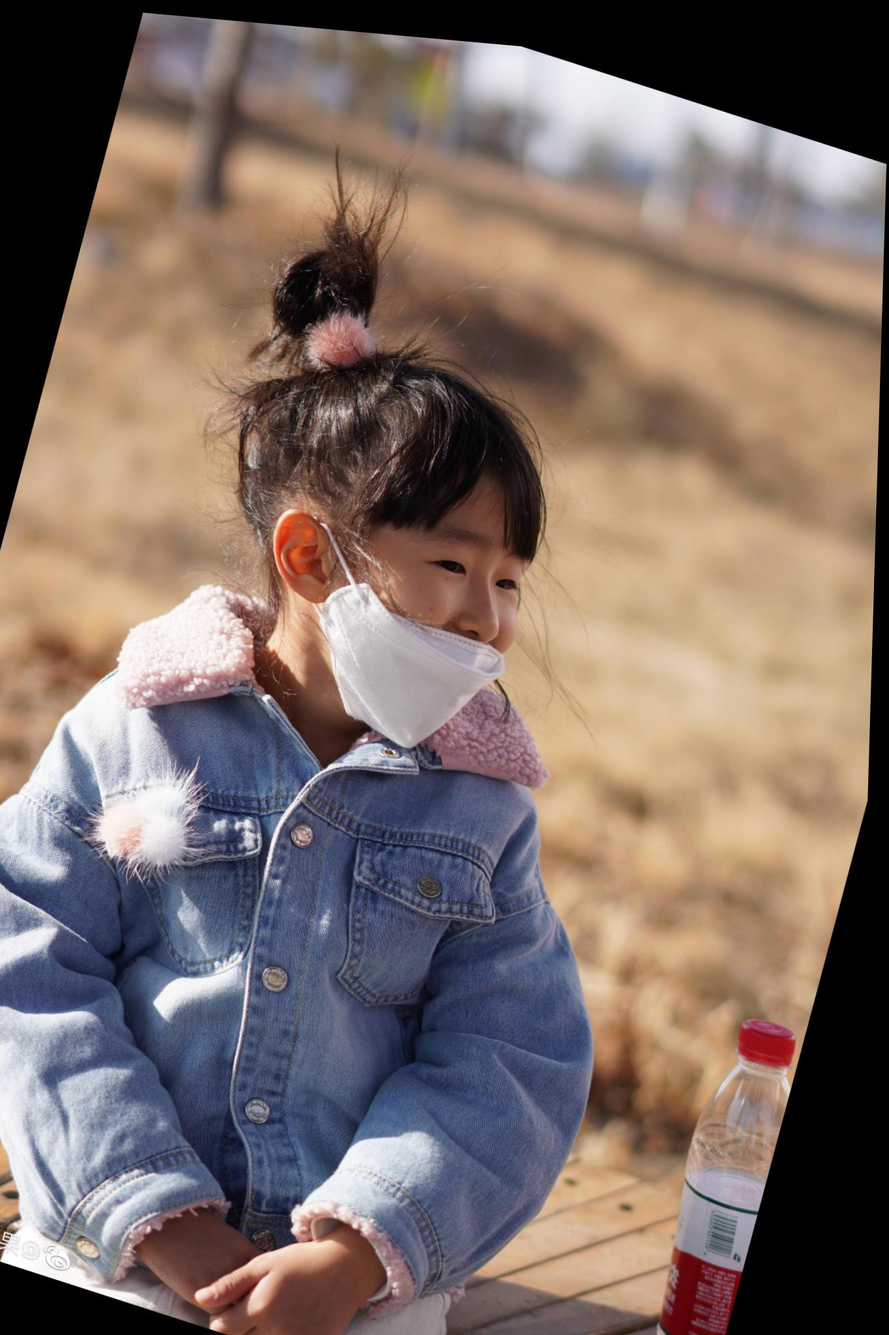WRONG: (313, 458, 552, 765)
